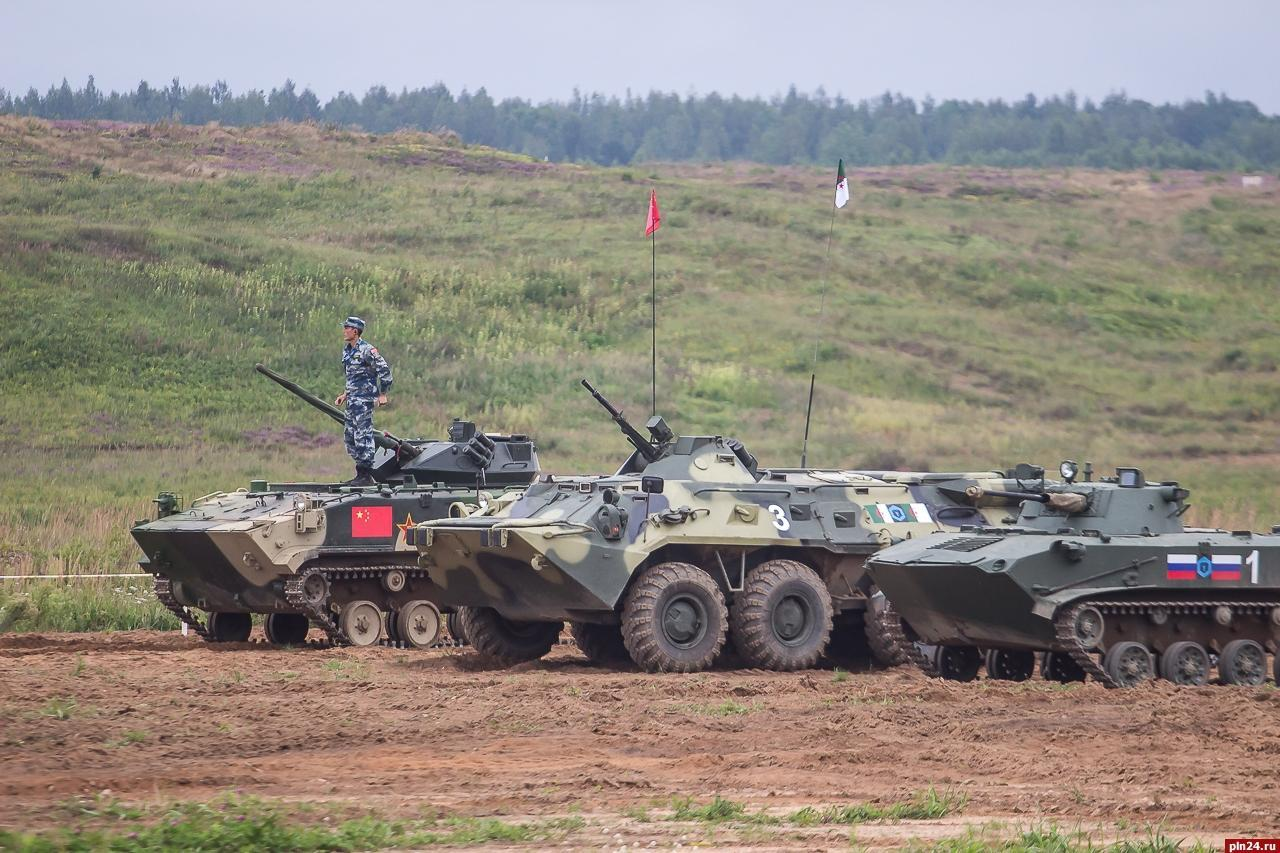person: (337, 315, 394, 487)
tank: (409, 376, 1058, 674), (128, 415, 545, 650), (863, 458, 1280, 690)
